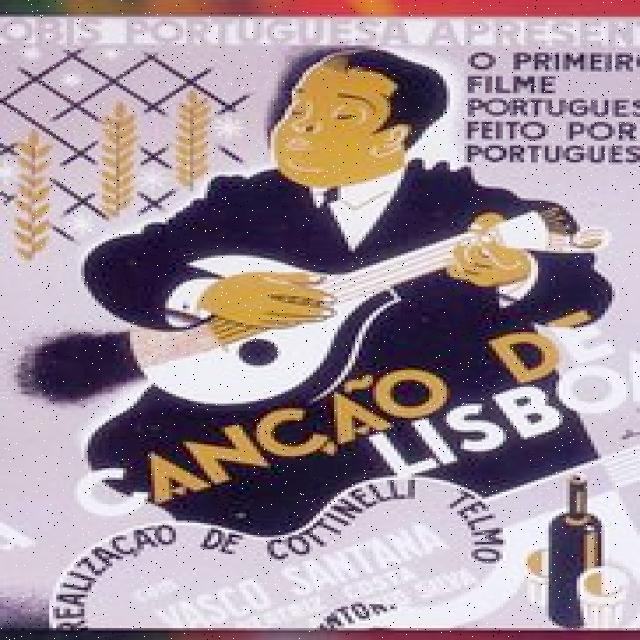movie-judul: (68, 307, 640, 517)
picture: (39, 48, 592, 512)
